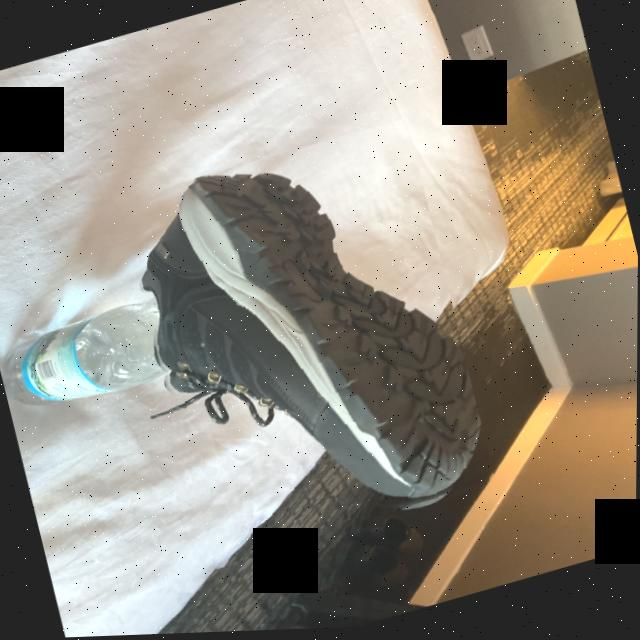shoe: (113, 118, 500, 577)
